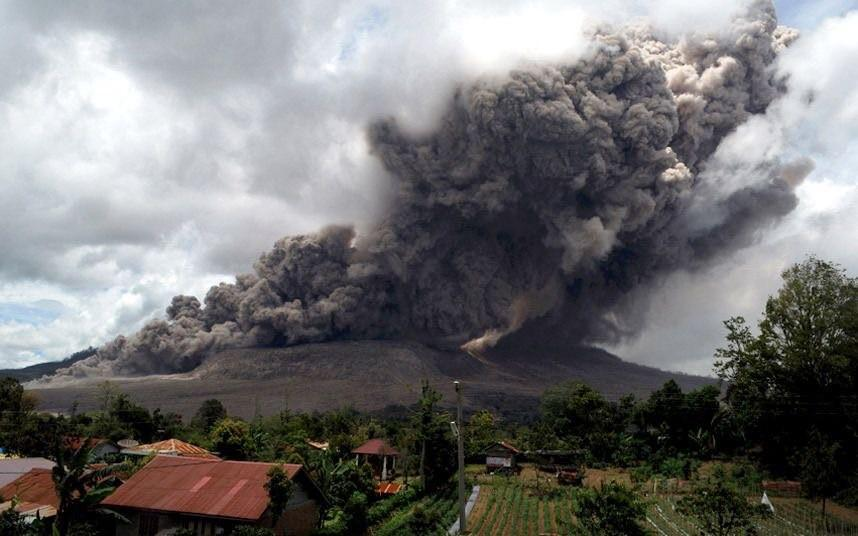smoke: (92, 22, 797, 377), (404, 63, 731, 373), (156, 239, 373, 347)
